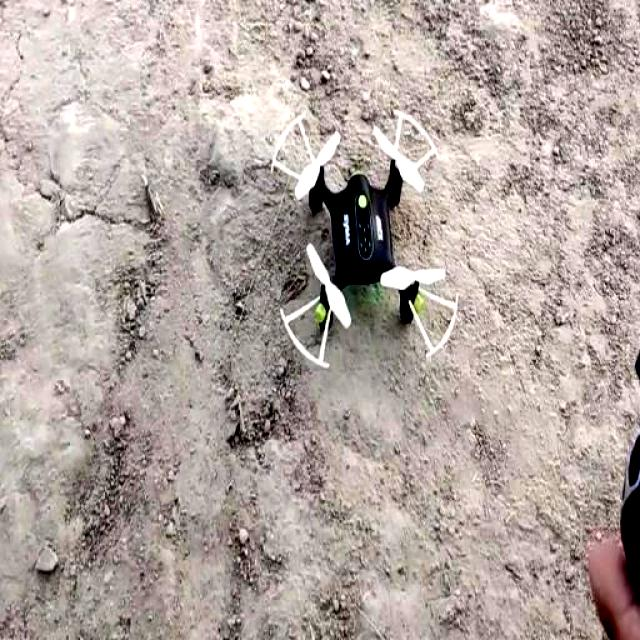bird: (261, 69, 476, 392)
